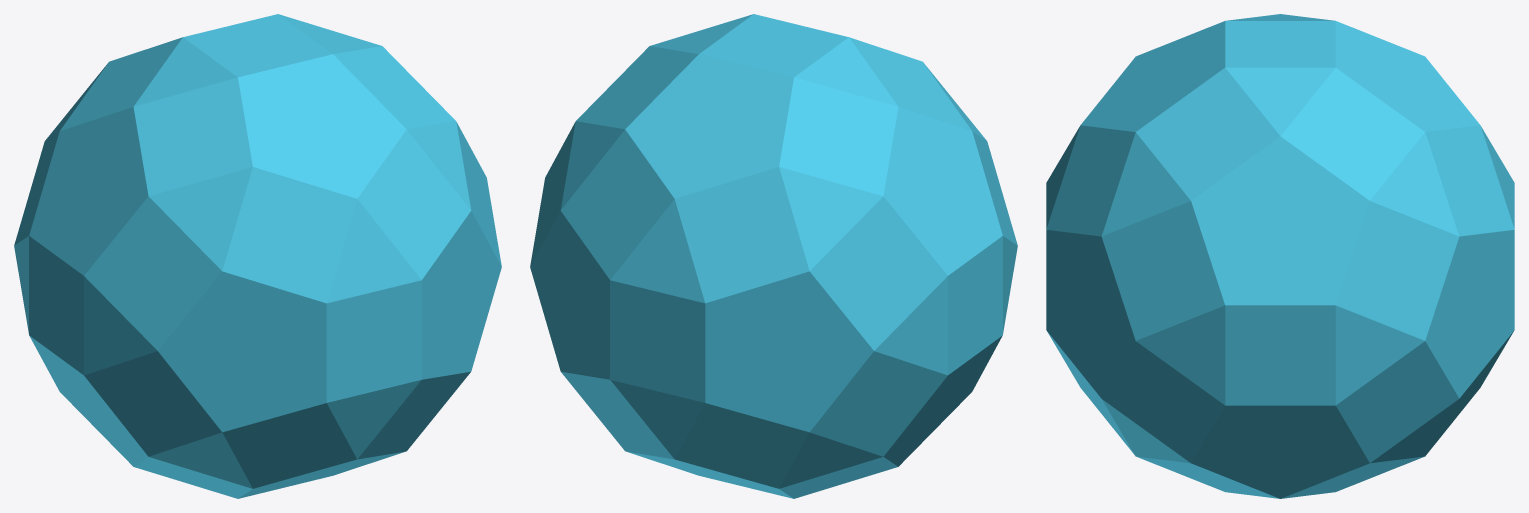
File: fractalrhombicosidodecahedron0.glb
3 renders of one model, left to right at view 1: azimuth 30°, elevation 25°; view 2: azimuth 150°, elevation 25°; view 3: azimuth 270°, elevation 25°, orthographic.
Size of the model in its own units: 10.99 by 10.99 by 10.99.
